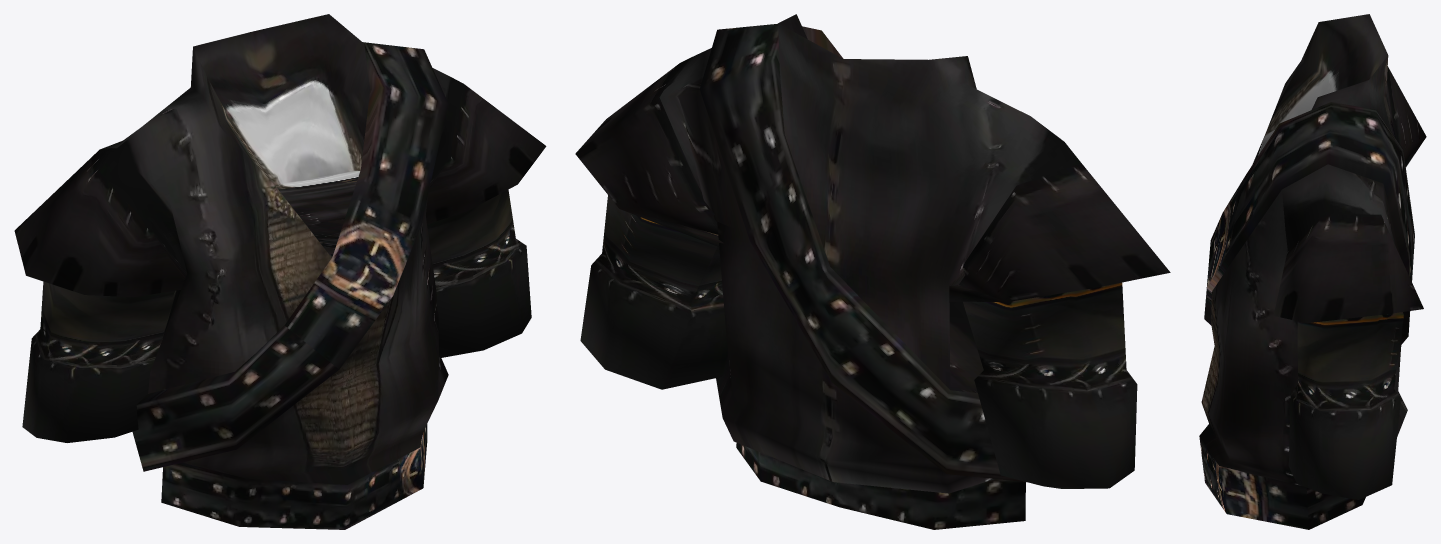
Rendered from STATIC_GS_KM_PIR_L.glb.
3 renders of one model, left to right at view 1: azimuth 30°, elevation 25°; view 2: azimuth 150°, elevation 25°; view 3: azimuth 270°, elevation 25°, orthographic. The views are drawn at different scales.
Visible parts, largest first — view 1: Mesh; view 2: Mesh; view 3: Mesh.
Part boxes in pixels (x1,y1,x2,y2): Mesh: [14, 14, 546, 529]; Mesh: [575, 14, 1170, 529]; Mesh: [1199, 14, 1426, 529].
Size of the model in its own units: 0.6735 by 0.5497 by 0.2601.
2 materials, 2 textured.
